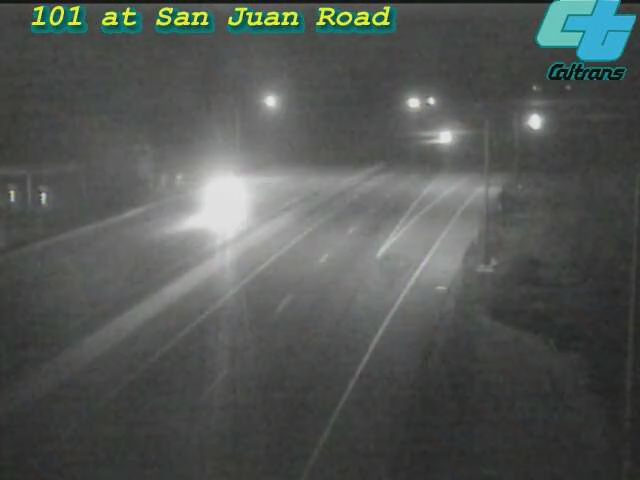vehicle: (190, 159, 270, 239), (421, 113, 471, 163), (509, 96, 559, 146)
